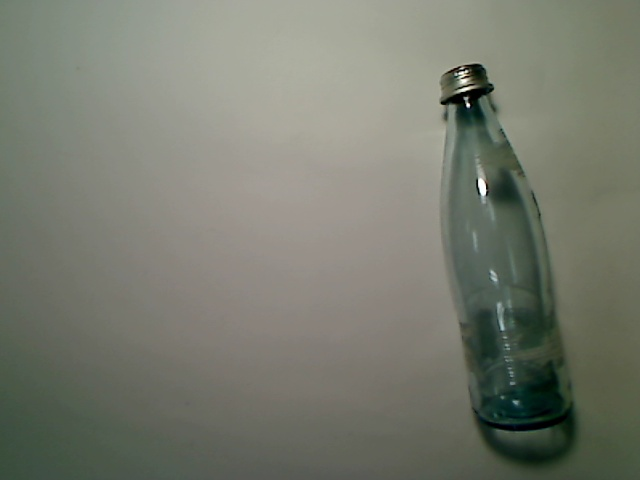bottle: (439, 63, 573, 431)
